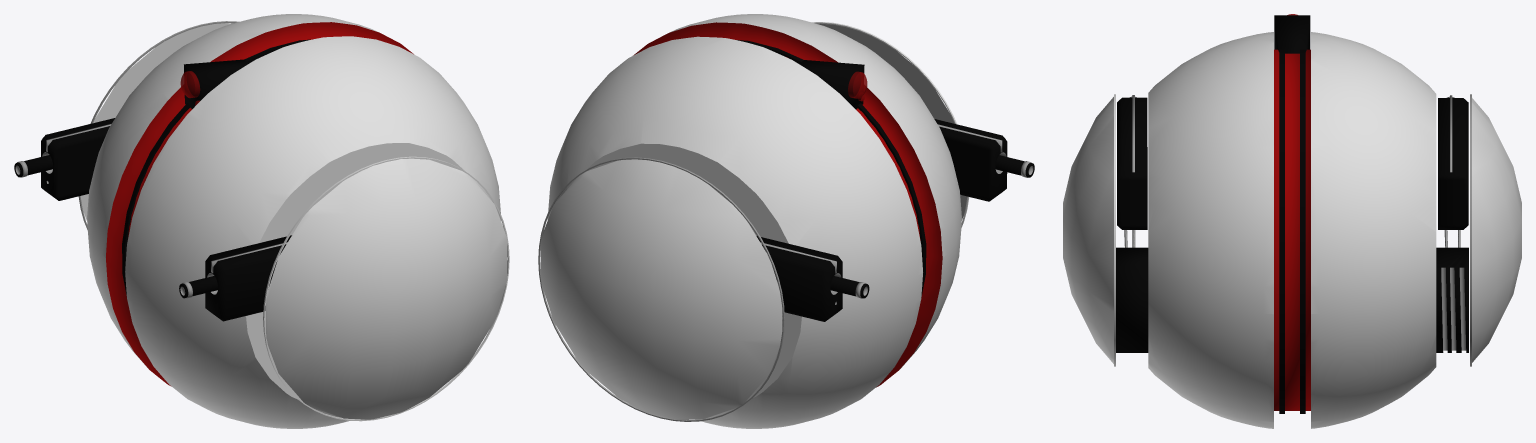
3 renders of one model, left to right at view 1: azimuth 30°, elevation 25°; view 2: azimuth 150°, elevation 25°; view 3: azimuth 270°, elevation 25°, orthographic. The views are drawn at different scales.
Visible parts, largest first — view 1: RobotR1_Wheel_Boole1_Boole2_Sphere1, RobotR1_Hand2_Tube1_Boole_11_Sphere2, RobotR1_Wheel_Boole1_Boole2_Tube, RobotR1_Wheel_Boole1_Cube2, RobotR1_Hand2_Gun2_Boole_12_Cube, RobotR1_Hand_Gun1_Boole_1_Cube5, RobotR1_Hand_Tube_1_Boole_2_Cube6, RobotR1_Hand2_Tube1, RobotR1_Had_Cube_2, RobotR1_Had_Cube_2_Tube_2, RobotR1_Hand_Tube_1, RobotR1_Hand2_Gun2_Gun2a_Boole_22_Cylinder2 (+1 smaller); view 2: RobotR1_Wheel_Boole1_Boole2_Sphere1, RobotR1_Hand_Tube_1_Boole_2_Sphere, RobotR1_Wheel_Boole1_Boole2_Tube, RobotR1_Wheel_Boole1_Cube2_Cube1, RobotR1_Hand_Gun1_Boole_1_Cube5, RobotR1_Hand2_Gun2_Boole_12_Cube, RobotR1_Hand2_Tube1_Boole_11_Cube3, RobotR1_Hand_Tube_1, RobotR1_Had_Cube_2, RobotR1_Had_Cube_2_Tube_3, RobotR1_Hand2_Tube1, RobotR1_Hand2_Gun2_Gun2a_Boole_22_Cylinder2 (+1 smaller); view 3: RobotR1_Wheel_Boole1_Boole2_Sphere1, RobotR1_Wheel_Boole1_Boole2_Tube, RobotR1_Hand2_Tube1_Boole_11_Sphere2, RobotR1_Hand_Tube_1_Boole_2_Sphere, RobotR1_Hand2_Gun2_Boole_12_Cube, RobotR1_Hand_Gun1_Boole_1_Cube5, RobotR1_Hand2_Cube_1, RobotR1_Hand_Boole_Cube_14, RobotR1_Had_Cube_2_Tube_3, RobotR1_Had_Cube_2_Tube_2, RobotR1_Had_Cube_2, RobotR1_Hand2_Tube1 (+4 smaller).
Part boxes in pixels (box(x1,y1,x2,y2)): RobotR1_Wheel_Boole1_Boole2_Sphere1: box(87, 14, 501, 428); RobotR1_Hand2_Tube1_Boole_11_Sphere2: box(266, 158, 507, 419); RobotR1_Wheel_Boole1_Boole2_Tube: box(106, 22, 413, 386); RobotR1_Wheel_Boole1_Cube2: box(246, 143, 465, 401); RobotR1_Hand2_Gun2_Boole_12_Cube: box(205, 235, 291, 321); RobotR1_Hand_Gun1_Boole_1_Cube5: box(41, 118, 114, 200); RobotR1_Hand_Tube_1_Boole_2_Cube6: box(80, 23, 233, 221); RobotR1_Hand2_Tube1: box(263, 156, 509, 421); RobotR1_Had_Cube_2: box(184, 59, 252, 108); RobotR1_Had_Cube_2_Tube_2: box(122, 39, 312, 296); RobotR1_Hand_Tube_1: box(78, 21, 239, 229); RobotR1_Hand2_Gun2_Gun2a_Boole_22_Cylinder2: box(179, 276, 217, 298); RobotR1_Wheel_Boole1_Boole2_Sphere1: box(547, 14, 961, 428); RobotR1_Hand_Tube_1_Boole_2_Sphere: box(541, 159, 782, 419); RobotR1_Wheel_Boole1_Boole2_Tube: box(633, 22, 942, 387); RobotR1_Wheel_Boole1_Cube2_Cube1: box(586, 143, 801, 400); RobotR1_Hand_Gun1_Boole_1_Cube5: box(756, 236, 842, 321); RobotR1_Hand2_Gun2_Boole_12_Cube: box(934, 119, 1007, 201); RobotR1_Hand2_Tube1_Boole_11_Cube3: box(818, 23, 967, 220); RobotR1_Hand_Tube_1: box(538, 157, 784, 421); RobotR1_Had_Cube_2: box(795, 60, 864, 109); RobotR1_Had_Cube_2_Tube_3: box(737, 40, 926, 297); RobotR1_Hand2_Tube1: box(812, 22, 969, 227); RobotR1_Hand2_Gun2_Gun2a_Boole_22_Cylinder2: box(995, 155, 1034, 177); RobotR1_Wheel_Boole1_Boole2_Sphere1: box(1148, 32, 1436, 428); RobotR1_Wheel_Boole1_Boole2_Tube: box(1274, 49, 1310, 410); RobotR1_Hand2_Tube1_Boole_11_Sphere2: box(1063, 97, 1113, 363); RobotR1_Hand_Tube_1_Boole_2_Sphere: box(1472, 98, 1521, 362); RobotR1_Hand2_Gun2_Boole_12_Cube: box(1117, 97, 1147, 229); RobotR1_Hand_Gun1_Boole_1_Cube5: box(1438, 98, 1468, 229); RobotR1_Hand2_Cube_1: box(1116, 247, 1148, 352); RobotR1_Hand_Boole_Cube_14: box(1436, 247, 1468, 352); RobotR1_Had_Cube_2_Tube_3: box(1279, 49, 1284, 413); RobotR1_Had_Cube_2_Tube_2: box(1300, 49, 1305, 413); RobotR1_Had_Cube_2: box(1274, 15, 1310, 53); RobotR1_Hand2_Tube1: box(1114, 94, 1115, 366).
Bounding box in the file's own units: 207 × 199 × 230.
